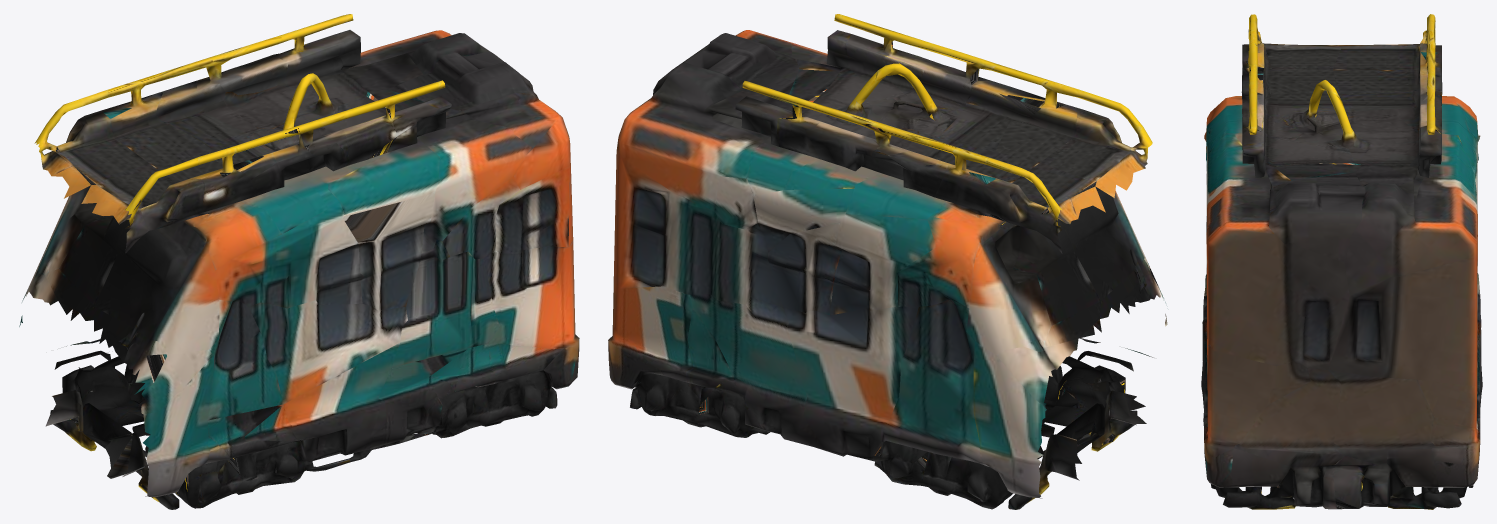
Rendered from meridian-ramp-train.glb.
The picture shows the model from 3 angles, left to right: view 1: azimuth 30°, elevation 25°; view 2: azimuth 150°, elevation 25°; view 3: azimuth 270°, elevation 25°; orthographic projection. The views are drawn at different scales.
Visible parts, largest first — view 1: ramp_rover_LOD0; view 2: ramp_rover_LOD0; view 3: ramp_rover_LOD0.
Boxes of the visible parts, x1=… form: ramp_rover_LOD0: x1=19, y1=14, x2=579, y2=509; ramp_rover_LOD0: x1=608, y1=14, x2=1167, y2=509; ramp_rover_LOD0: x1=1201, y1=14, x2=1482, y2=509.
Size of the model in its own units: 1.1 by 0.8195 by 0.5964.
Materials: 1 (1 with a texture image).
